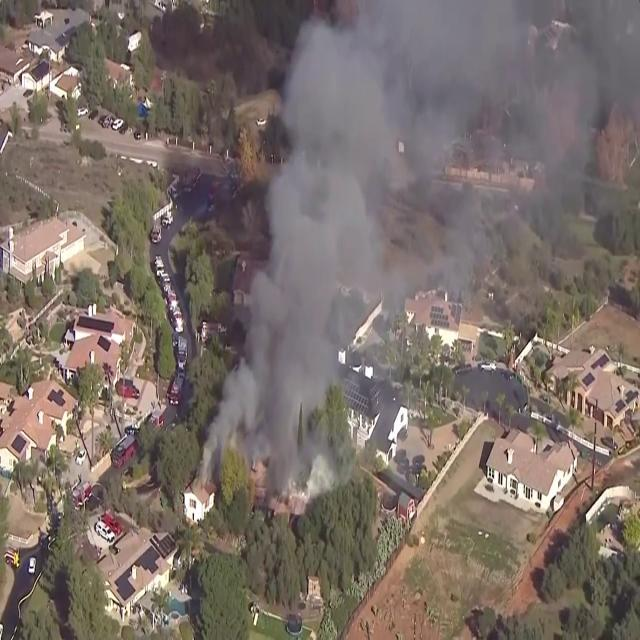Smoke: (209, 0, 640, 495), (209, 0, 639, 481)
